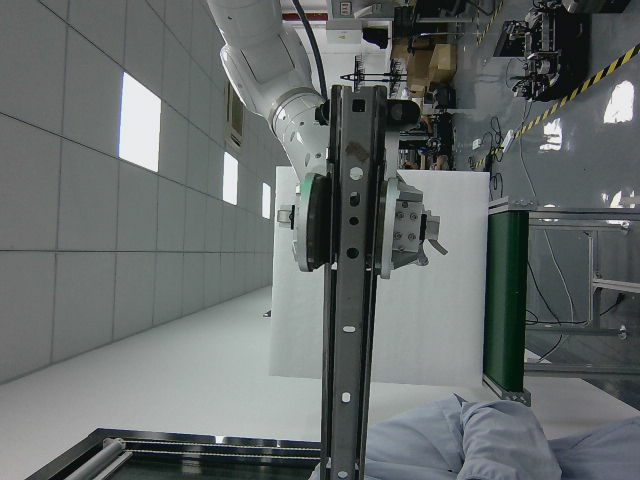right: (310, 84, 389, 443)
